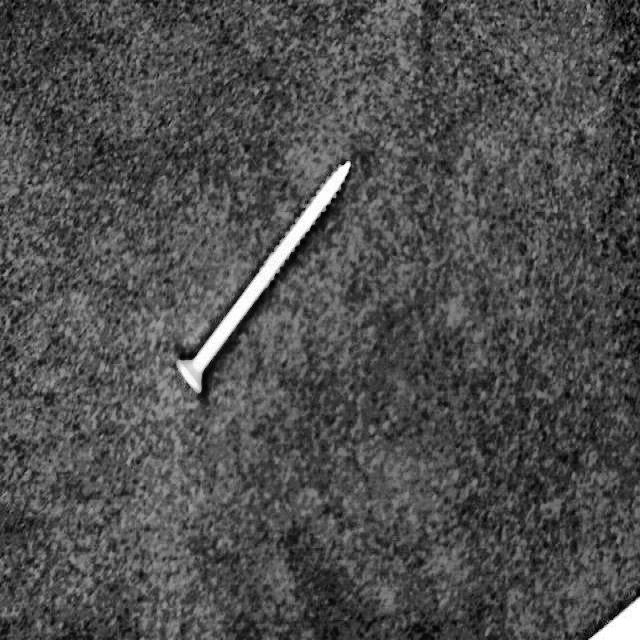Wood screw: (176, 158, 351, 394)
